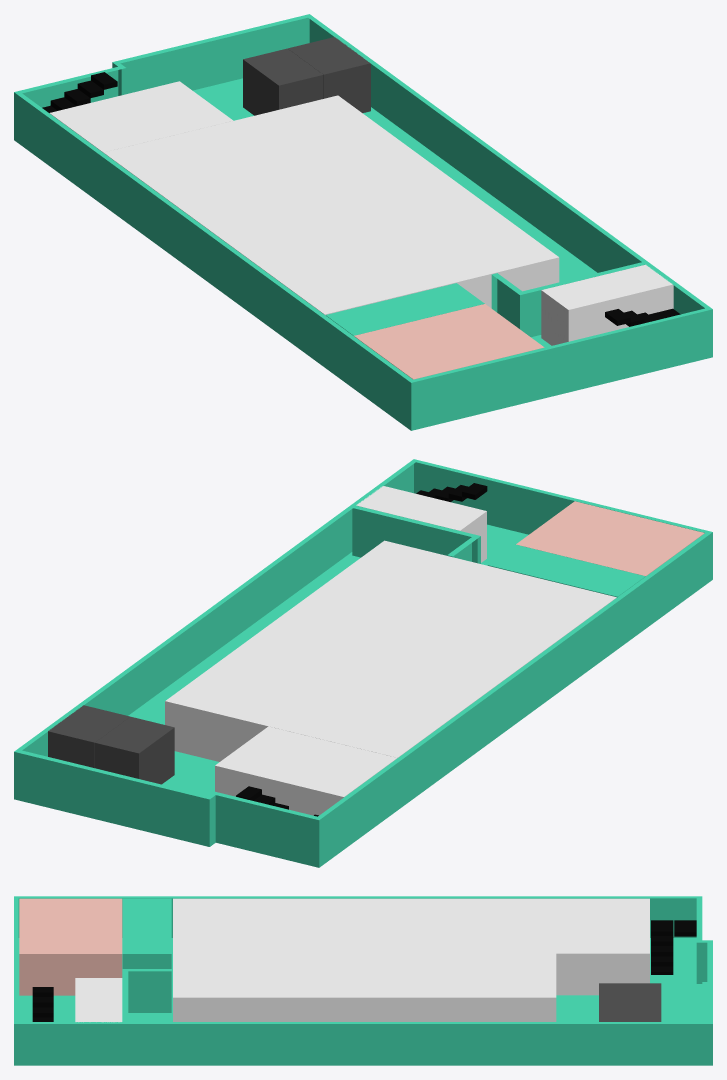
3 views of the same model, one above another, from view 1: azimuth 30°, elevation 25°; view 2: azimuth 150°, elevation 25°; view 3: azimuth 270°, elevation 25° (orthographic). The views are drawn at different scales.
Parts seen in each view (by area): view 1: object, 蒼翼の間, エレベーター_3_7_1, ラウンジ, パントリー, 女子トイレ_3_7_1, 男子トイレ_3_7_1, 階段_3_7_1, 階段_3_7_2; view 2: object, 蒼翼の間, ラウンジ, エレベーター_3_7_1, 女子トイレ_3_7_1, 男子トイレ_3_7_1, パントリー, 階段_3_7_2; view 3: 蒼翼の間, object, ラウンジ, 女子トイレ_3_7_1, 男子トイレ_3_7_1, エレベーター_3_7_1, パントリー, 階段_3_7_1, 階段_3_7_2.
Boxes of the visible parts, bbox=[...] form: object: bbox=[14, 14, 712, 430]; 蒼翼の間: bbox=[104, 95, 559, 315]; エレベーター_3_7_1: bbox=[243, 37, 370, 115]; ラウンジ: bbox=[49, 81, 233, 152]; パントリー: bbox=[541, 264, 673, 345]; 女子トイレ_3_7_1: bbox=[381, 324, 544, 379]; 男子トイレ_3_7_1: bbox=[354, 304, 512, 356]; 階段_3_7_1: bbox=[42, 72, 117, 112]; 階段_3_7_2: bbox=[605, 308, 680, 326]; object: bbox=[14, 459, 712, 867]; 蒼翼の間: bbox=[165, 540, 616, 761]; ラウンジ: bbox=[215, 726, 397, 815]; エレベーター_3_7_1: bbox=[48, 705, 174, 784]; 女子トイレ_3_7_1: bbox=[543, 501, 704, 555]; 男子トイレ_3_7_1: bbox=[516, 524, 673, 576]; パントリー: bbox=[356, 486, 486, 562]; 階段_3_7_2: bbox=[416, 483, 487, 501]; 蒼翼の間: bbox=[173, 898, 556, 1021]; object: bbox=[14, 896, 712, 1065]; ラウンジ: bbox=[556, 898, 649, 995]; 女子トイレ_3_7_1: bbox=[19, 898, 74, 995]; 男子トイレ_3_7_1: bbox=[74, 898, 122, 995]; エレベーター_3_7_1: bbox=[599, 983, 661, 1021]; パントリー: bbox=[75, 978, 122, 1022]; 階段_3_7_1: bbox=[651, 920, 696, 974]; 階段_3_7_2: bbox=[32, 987, 53, 1021].
Size of the model in its own units: 1.08 by 0.1736 by 2.49.
